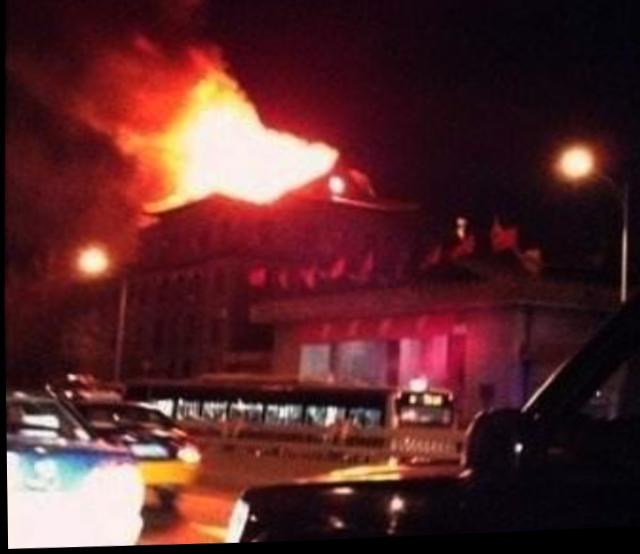fire: (135, 65, 364, 222)
